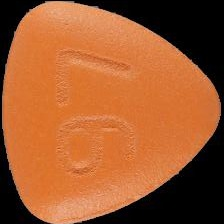49349-189: (0, 0, 224, 224)
